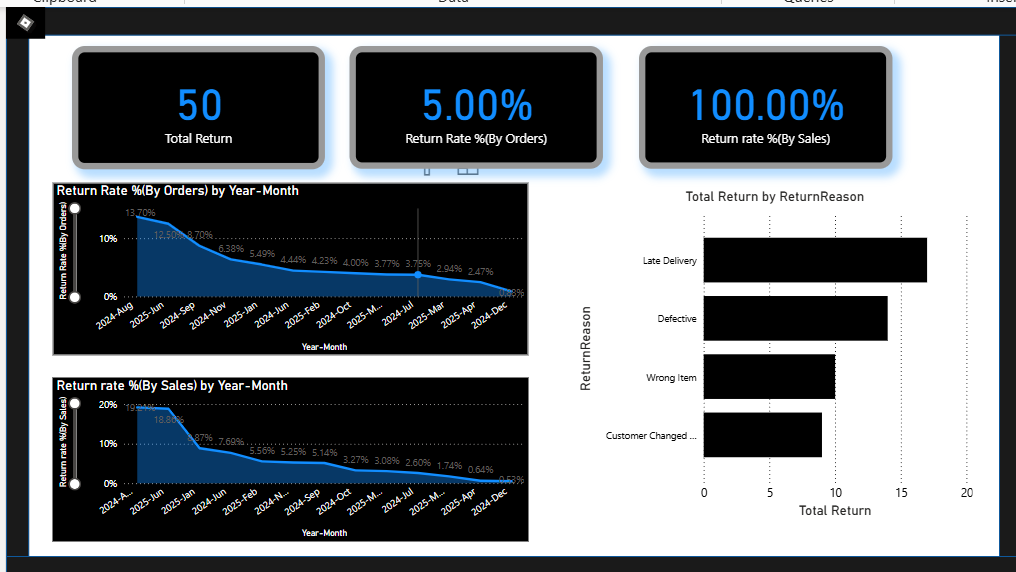

This screenshot's page, from the dashboard's own definition file:
{"tool":"powerbi","page":{"name":"Return Details","canvas":[1280,720],"ordinal":5},"visuals":[{"type":"shape","box":[1251,0,28.3,720],"z":0},{"type":"shape","box":[0,0,29.1,720.6],"z":1000},{"type":"shape","box":[0,0,1279.4,35.9],"z":2000},{"type":"shape","box":[0,691.7,1279.4,28.3],"z":3000},{"type":"clusteredBarChart","fields":{"Y":["Measure Table.Total Return"],"Category":["FinalProject_Dataset - Returns_Fact.ReturnReason"]},"box":[714.1,228.3,508.4,419.4],"z":4000},{"type":"card","fields":{"Values":["Measure Table.Total Return"]},"box":[82.6,48.6,319,155.4],"z":5000},{"type":"lineChart","fields":{"Y":["Measure Table.Return Rate %(By Orders)"],"Category":["FinalProject_Dataset - Date_Dim.Year-Month"]},"box":[58.6,221.1,599.1,217.3],"z":6000},{"type":"card","fields":{"Values":["Measure Table.Return Rate %(By Orders)"]},"box":[432.8,49.1,319.4,155],"z":7000},{"type":"card","fields":{"Values":["Measure Table.Return rate %(By Sales)"]},"box":[797.5,49.1,319.4,155],"z":8000},{"type":"lineChart","fields":{"Category":["FinalProject_Dataset - Date_Dim.Year-Month"],"Y":["Measure Table.Return rate %(By Sales)"]},"box":[58.6,466.8,599.1,206],"z":9000},{"type":"actionButton","box":[0,0,49.1,39.7],"z":10000}]}

Visuals, with their boxes on the page's 1280x720 design canvas (x1, y1, x2, y2). These are canvas units, not pixel positions in the 1016x572 screenshot, which may show the page scaled, cropped or inside an application window:
shape: box(1251, 0, 1279, 720)
shape: box(0, 0, 29, 721)
shape: box(0, 0, 1279, 36)
shape: box(0, 692, 1279, 720)
clusteredBarChart - Measure Table.Total Return x FinalProject_Dataset - Returns_Fact.ReturnReason: box(714, 228, 1222, 648)
card - Measure Table.Total Return: box(83, 49, 402, 204)
lineChart - Measure Table.Return Rate %(By Orders) x FinalProject_Dataset - Date_Dim.Year-Month: box(59, 221, 658, 438)
card - Measure Table.Return Rate %(By Orders): box(433, 49, 752, 204)
card - Measure Table.Return rate %(By Sales): box(798, 49, 1117, 204)
lineChart - FinalProject_Dataset - Date_Dim.Year-Month x Measure Table.Return rate %(By Sales): box(59, 467, 658, 673)
actionButton: box(0, 0, 49, 40)
